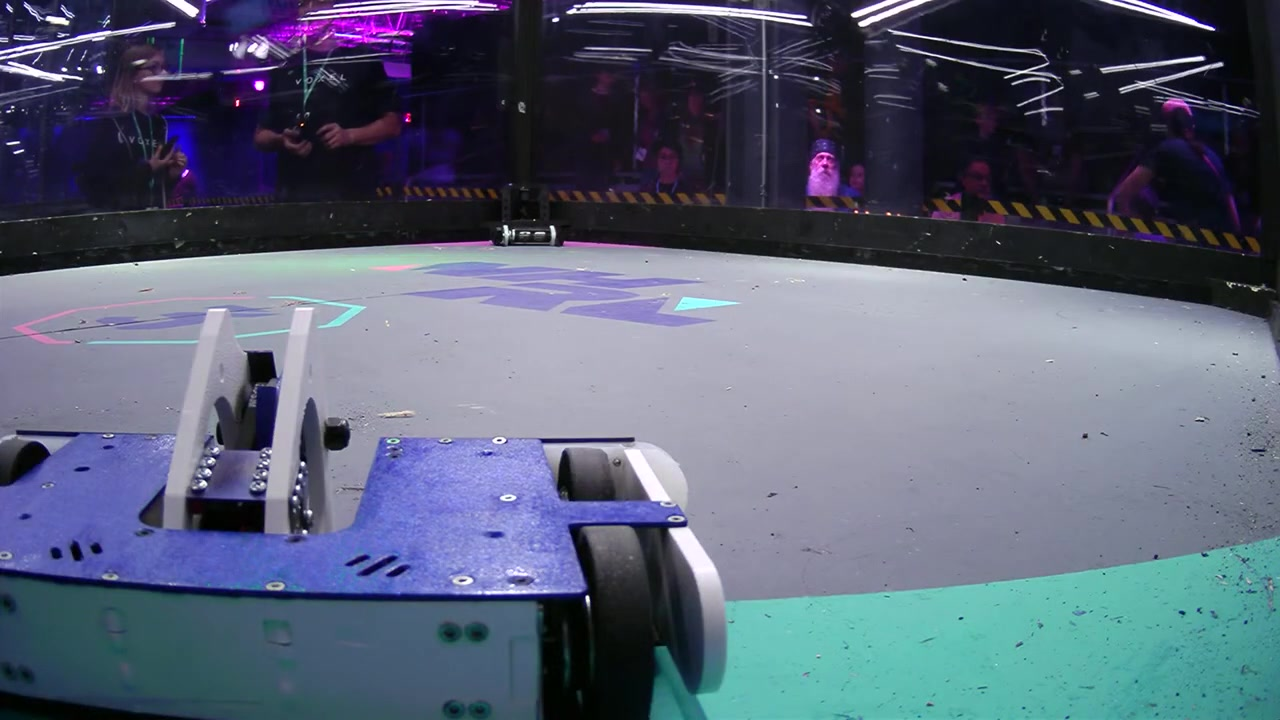combatbot: (0, 302, 727, 720), (491, 221, 563, 248)
